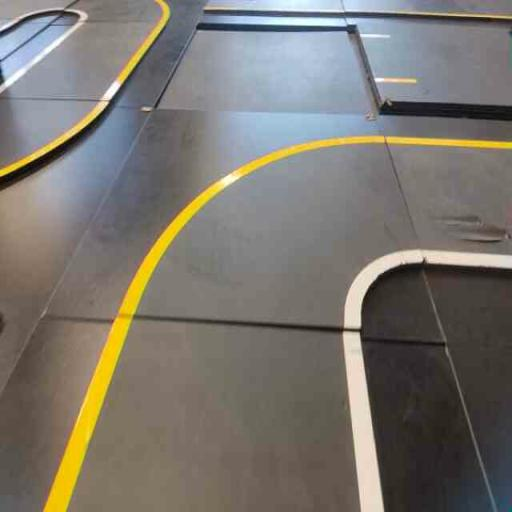right: (99, 124, 446, 345)
